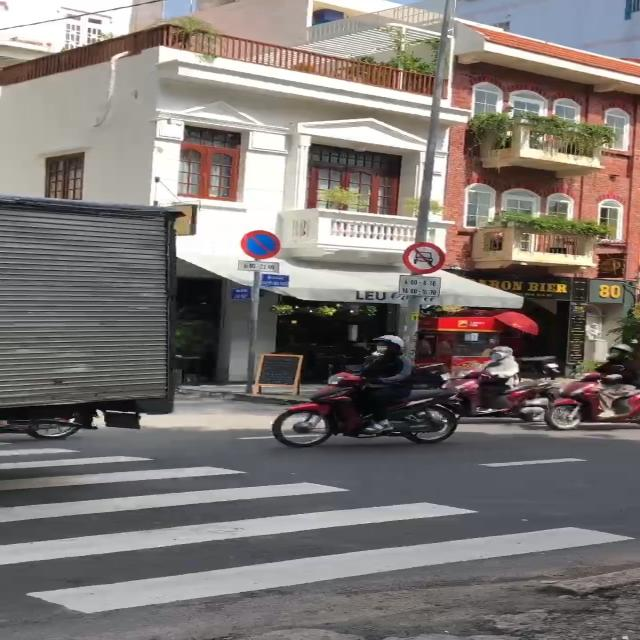Bien bao cam do xe: (238, 227, 285, 261)
Bien bao cam xe oto: (398, 240, 453, 276)
